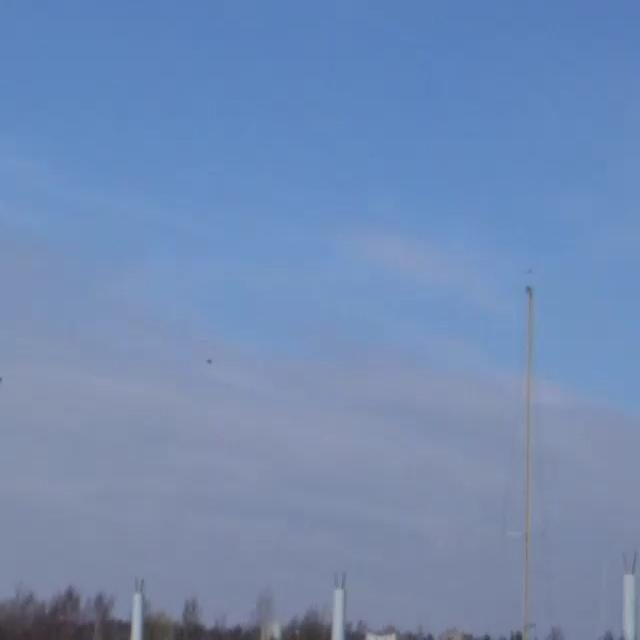bird: (202, 357, 215, 368)
